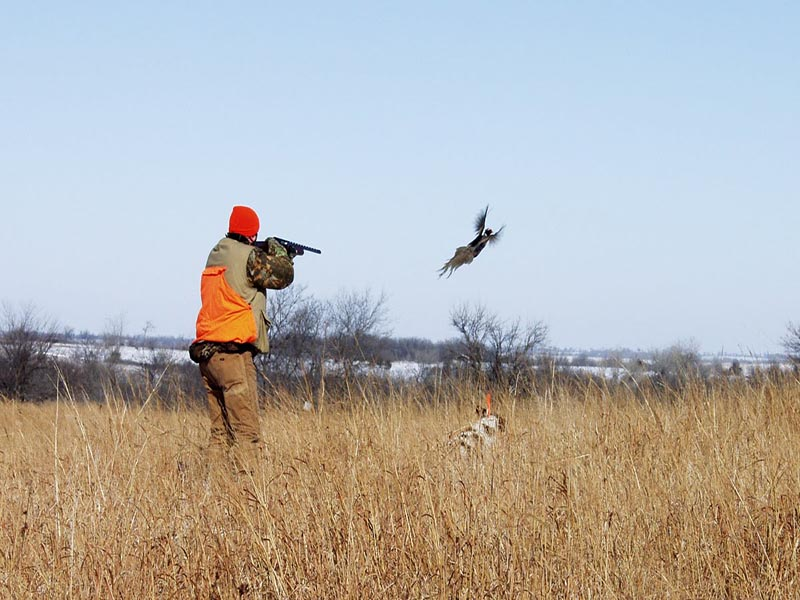cacciatore: (193, 197, 297, 458)
fucile: (234, 228, 329, 260)
